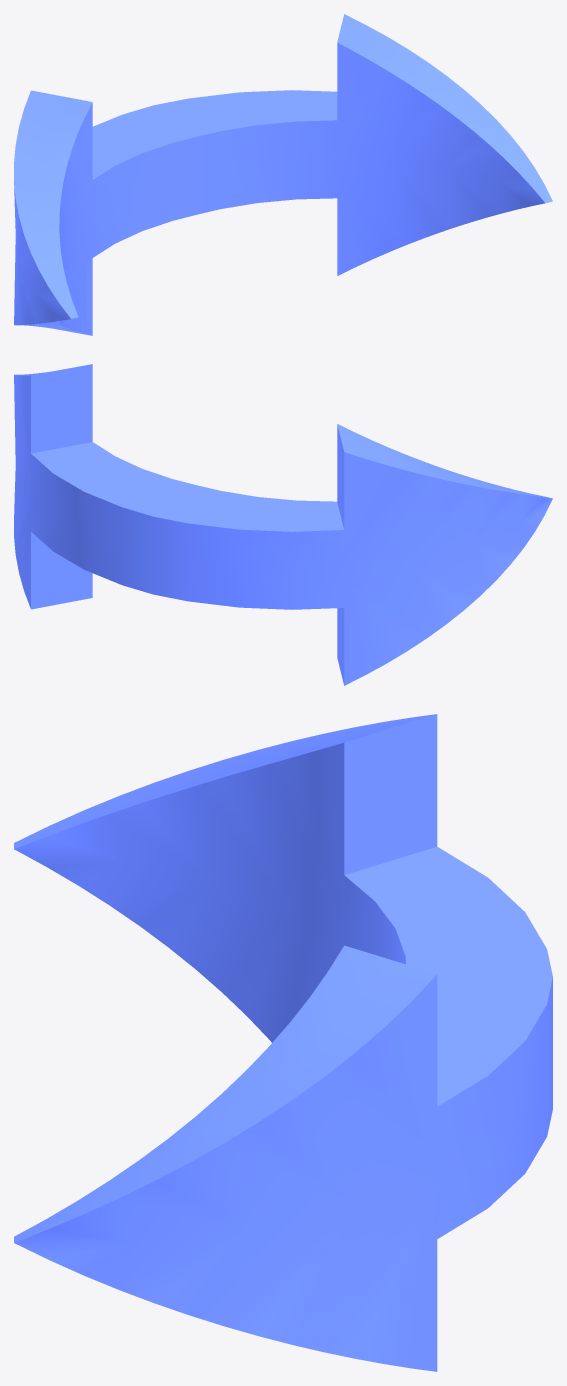
The model's file is anno_arrow_rotate_double.glb.
3 renders of one model, top to bottom at view 1: azimuth 30°, elevation 25°; view 2: azimuth 150°, elevation 25°; view 3: azimuth 270°, elevation 25°, orthographic. The views are drawn at different scales.
Parts seen in each view (by area): view 1: anno_arrow_rotate_double; view 2: anno_arrow_rotate_double; view 3: anno_arrow_rotate_double.
Boxes of the visible parts, bbox=[...] form: anno_arrow_rotate_double: bbox=[14, 14, 552, 335]; anno_arrow_rotate_double: bbox=[14, 364, 552, 685]; anno_arrow_rotate_double: bbox=[14, 714, 552, 1371].
Size of the model in its own units: 0.1306 by 0.06 by 0.0737.
